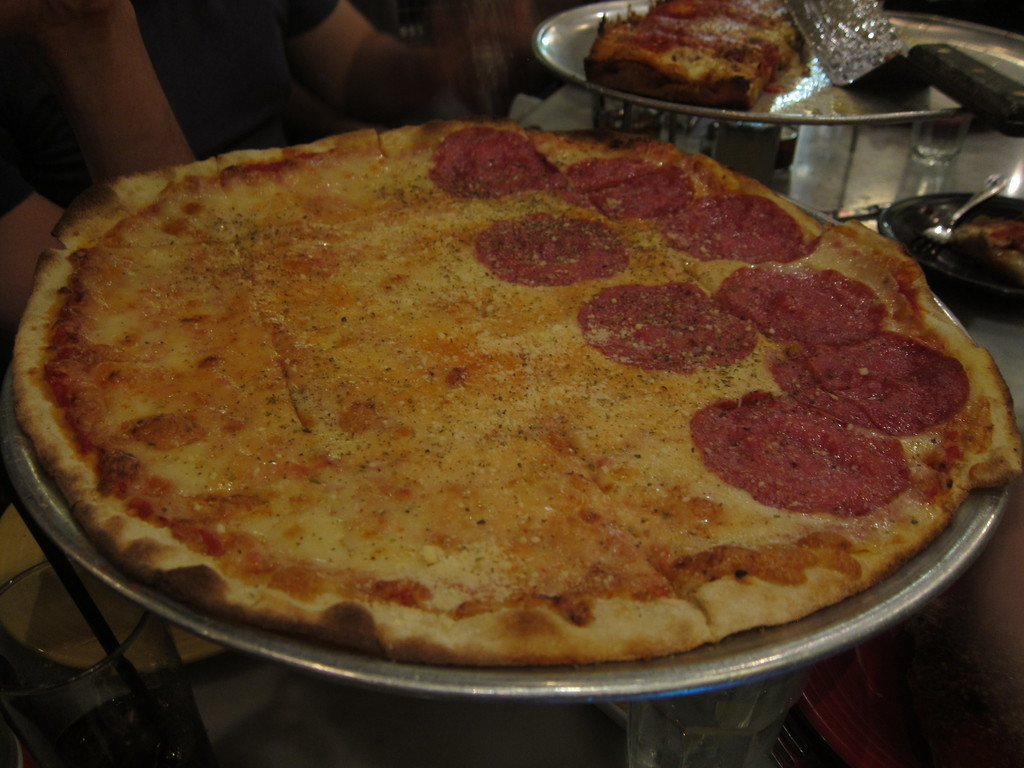Pizza: (1, 108, 1019, 693)
